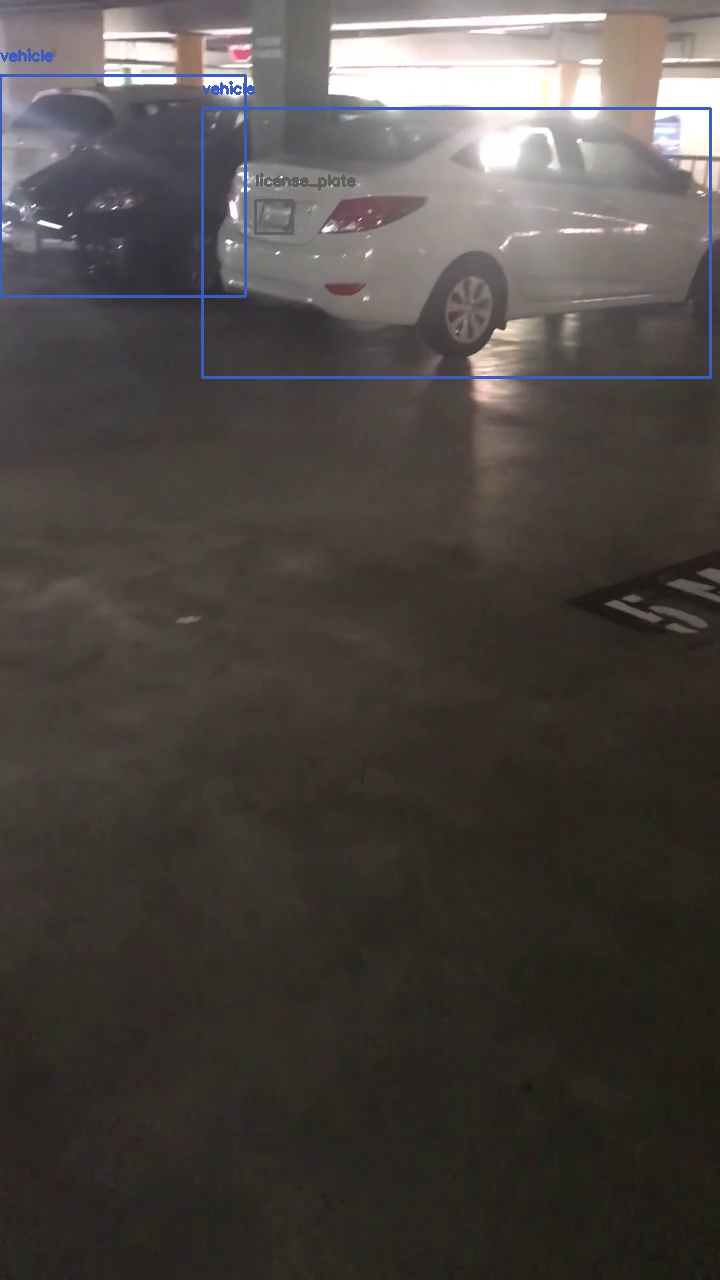license_plate: (255, 200, 292, 233)
vehicle: (202, 108, 710, 377), (0, 75, 245, 296)
